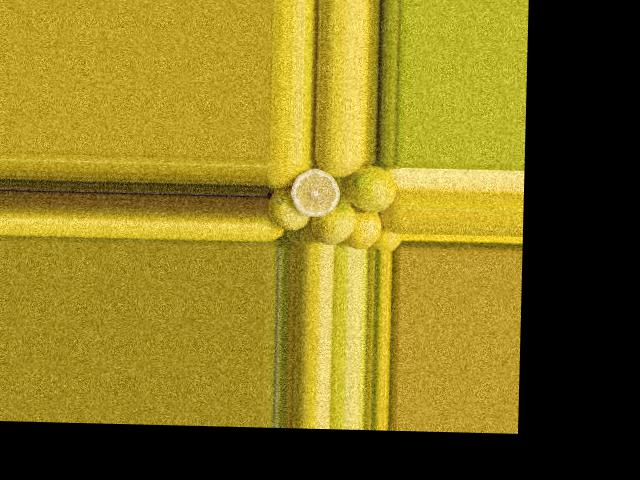lemon: (269, 191, 306, 230)
